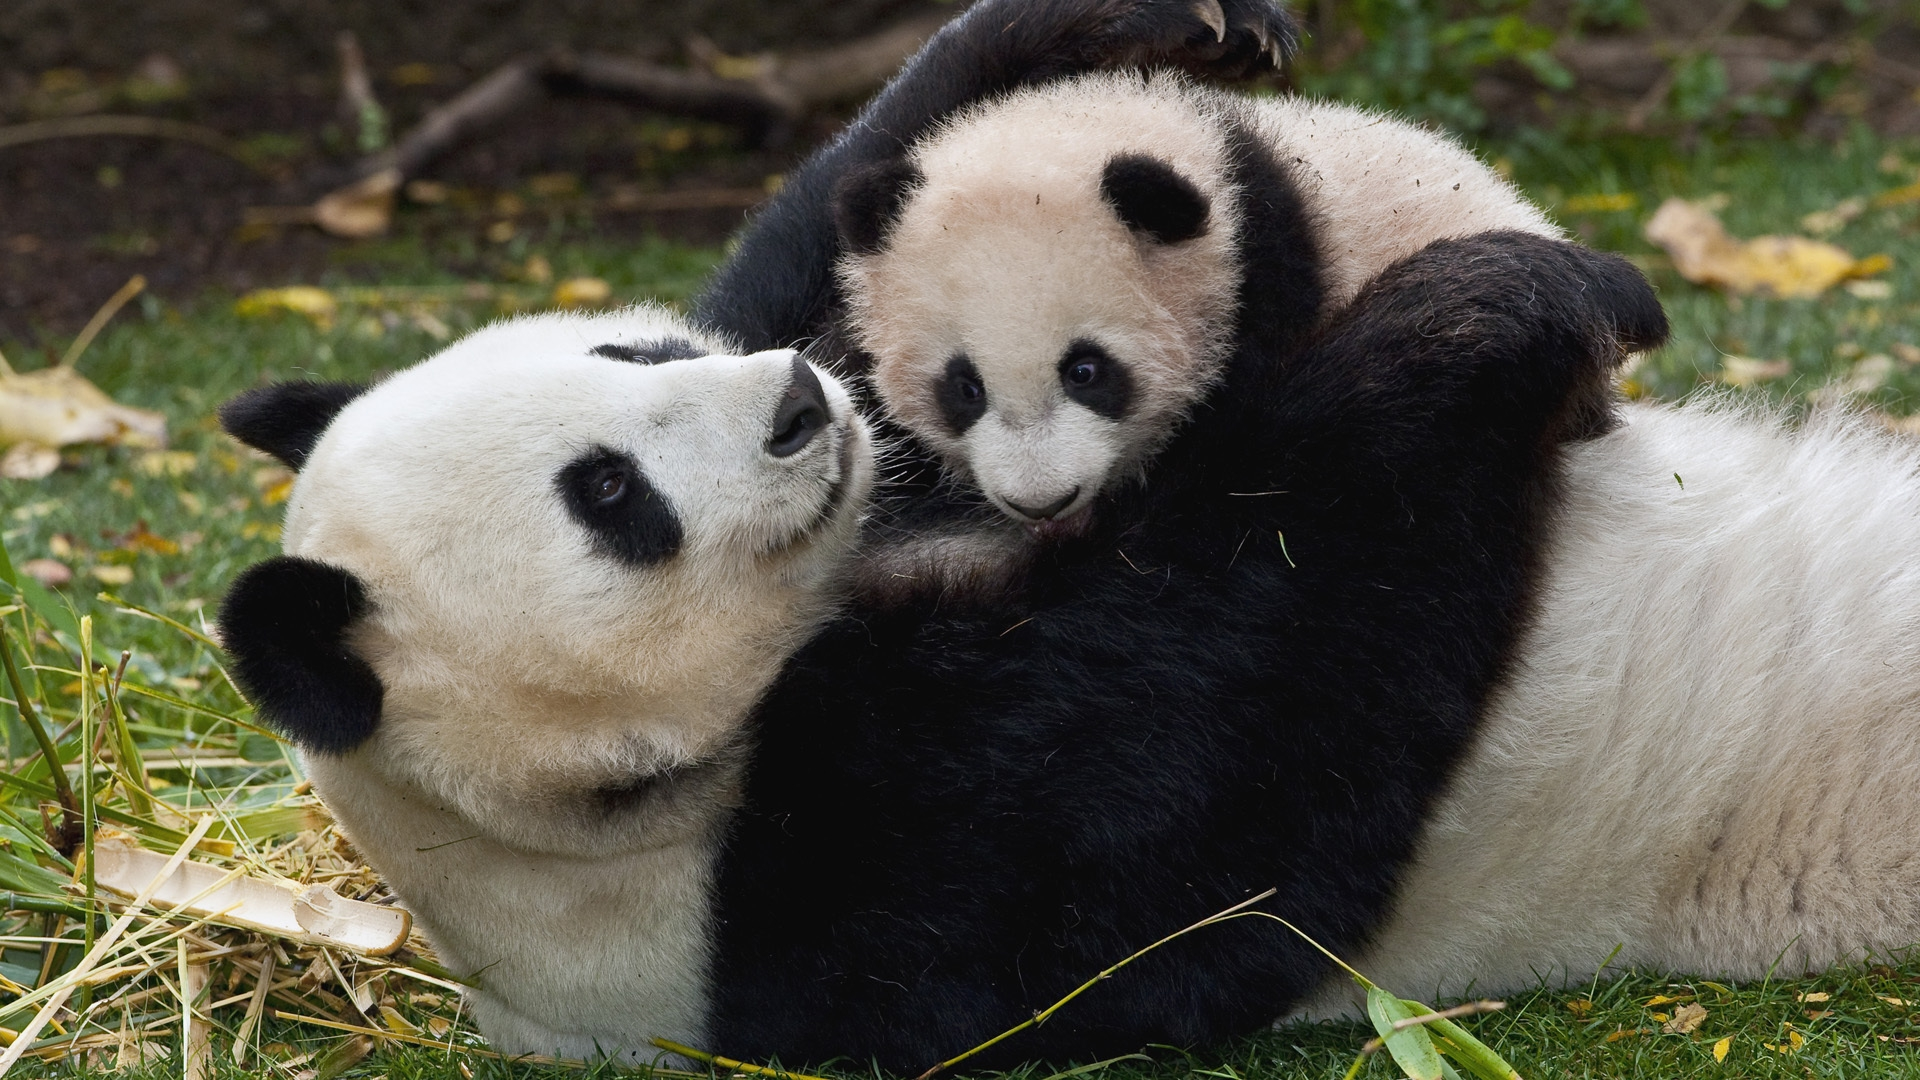panda: (102, 138, 1920, 1075), (764, 61, 1672, 531)
